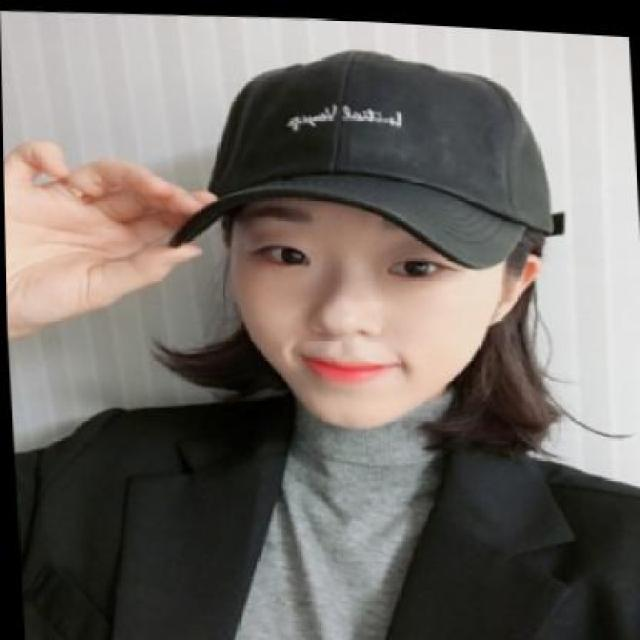hat: (146, 26, 576, 282)
